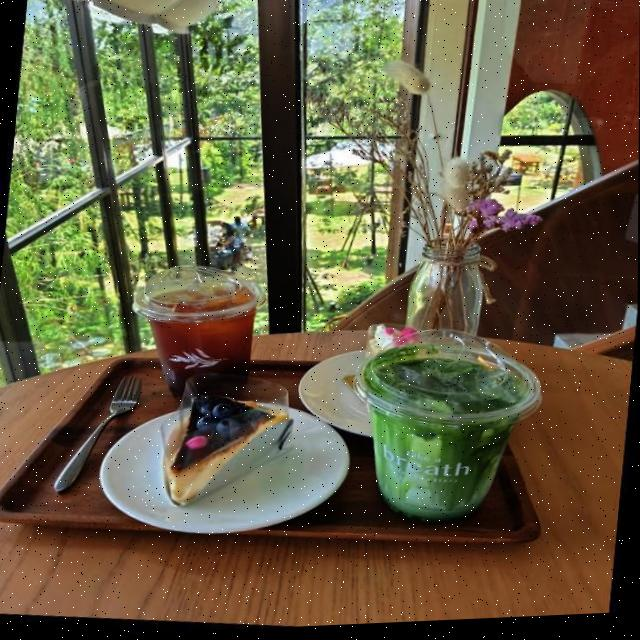cup: (359, 324, 550, 530), (120, 239, 286, 415)
